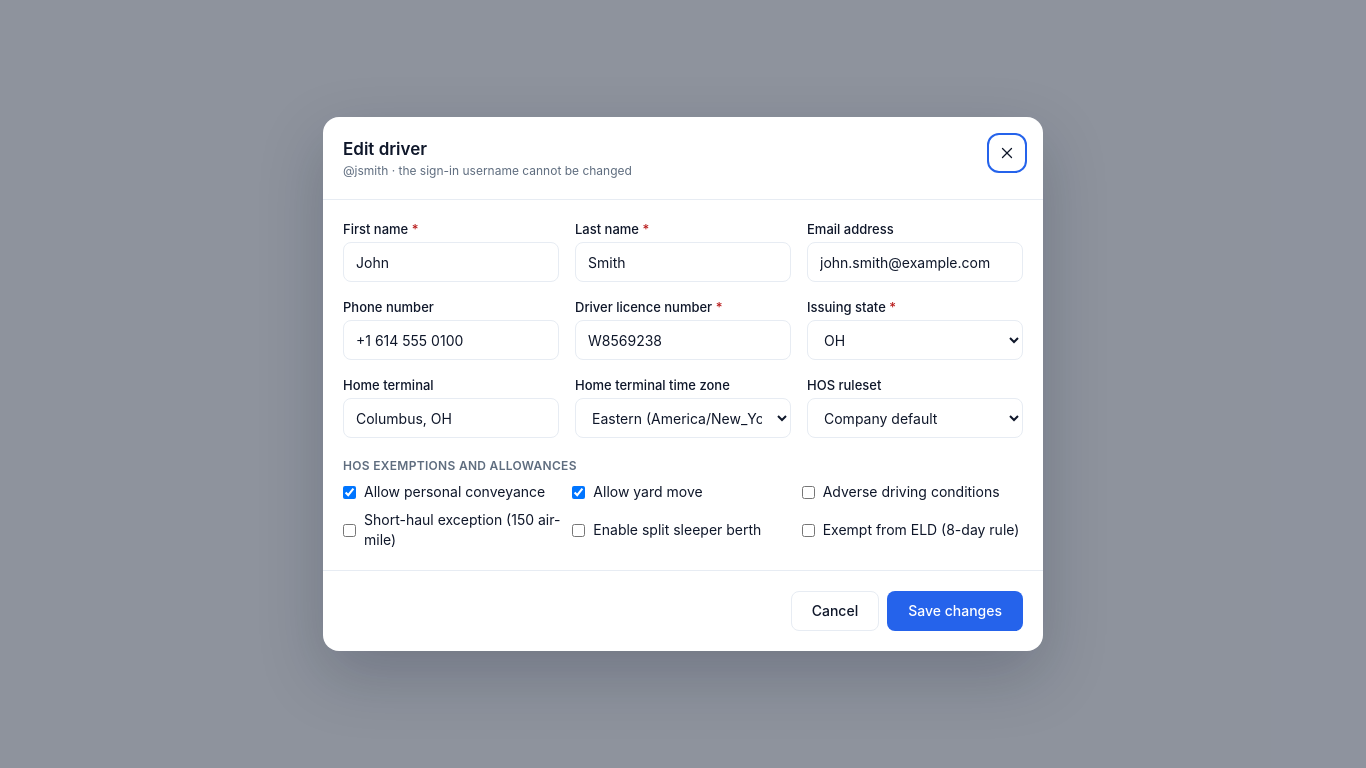
W-07 Edit driver — licence › rejects invalid characters and a too-short number
The width and height of the screenshot is (1366, 768).
Replace the text in the field labelled "Driver licence number *" with "W12 345" at (683, 340), box [575,320,791,360]
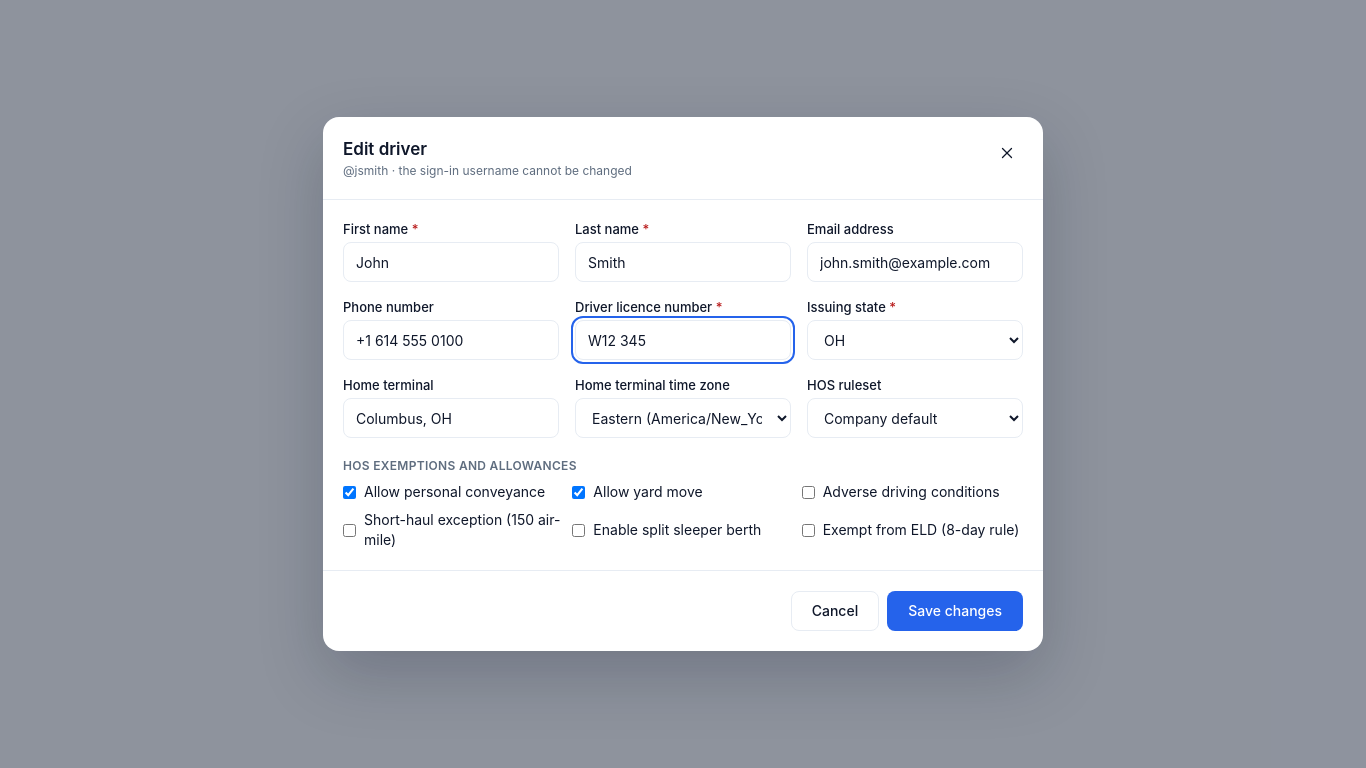
Press Tab
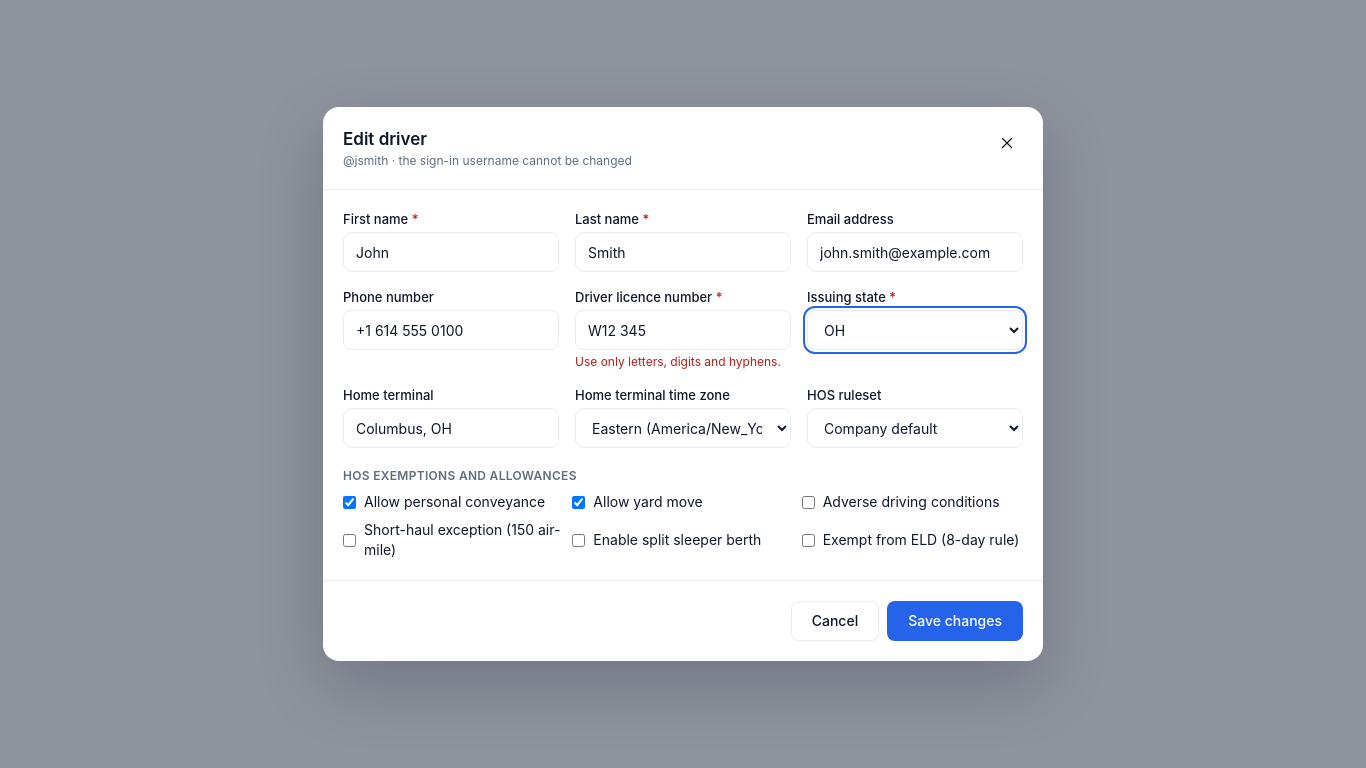
Expected: the text "Use only letters, digits and hyphens." is shown, [575,354,791,370]
Replace the text in the field labelled "Driver licence number" with "W12" at (683, 330), box [575,310,791,350]
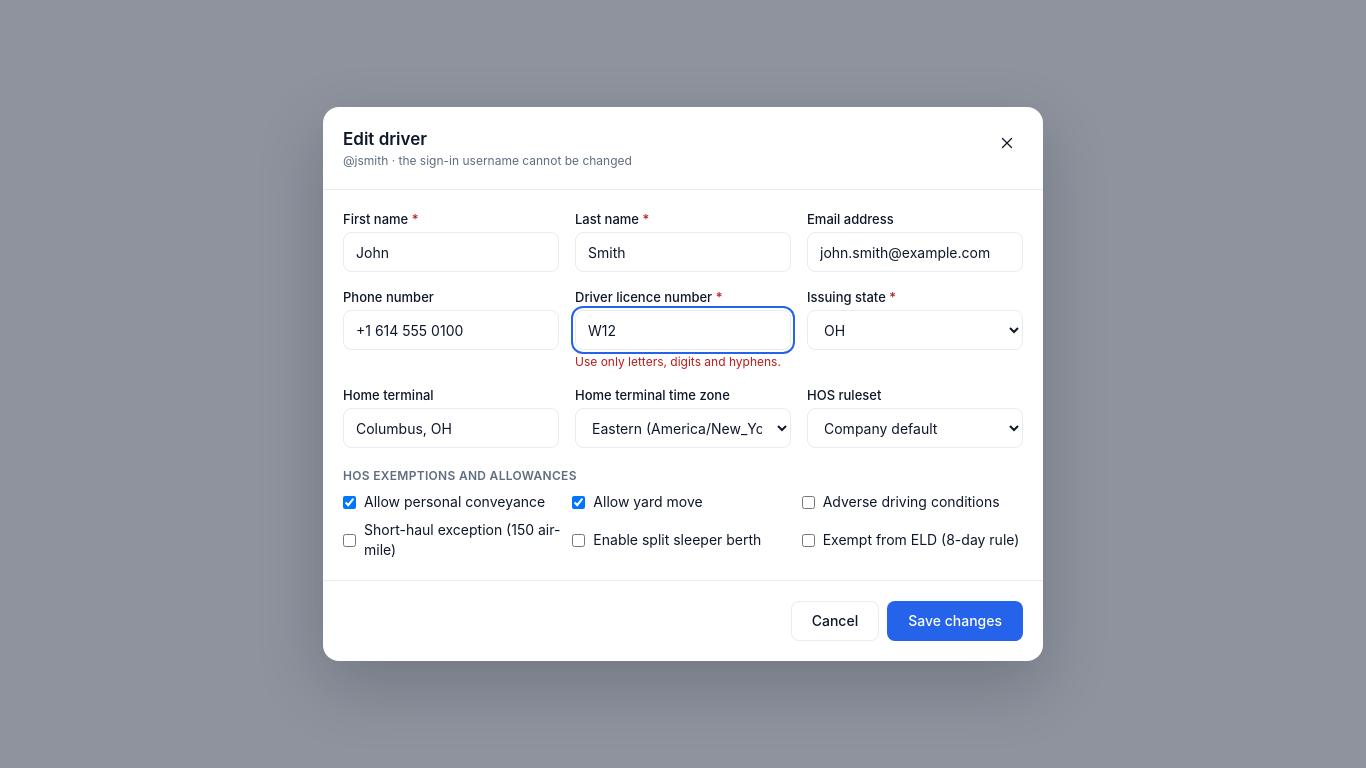
Press Tab
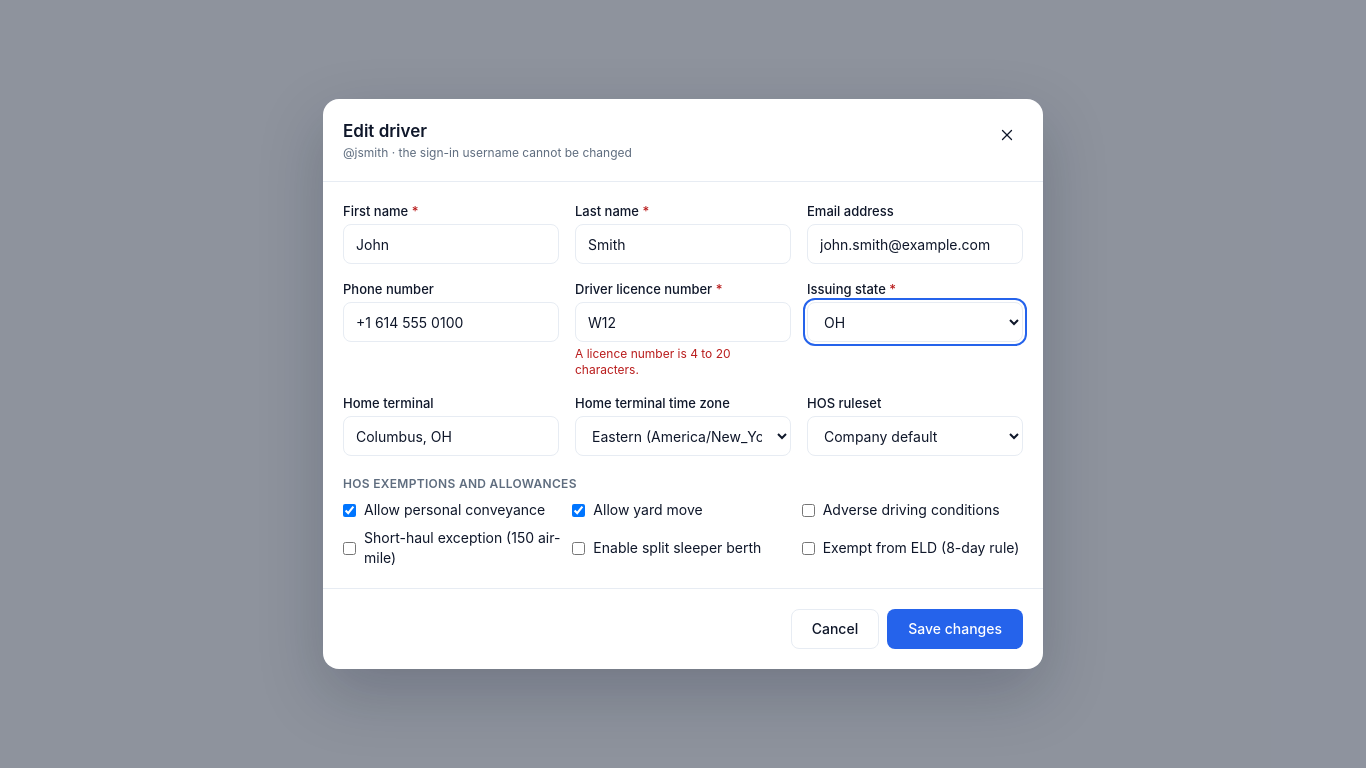
Expected: the text "A licence number is 4 to 20 characters." is shown, [575,346,731,377]
